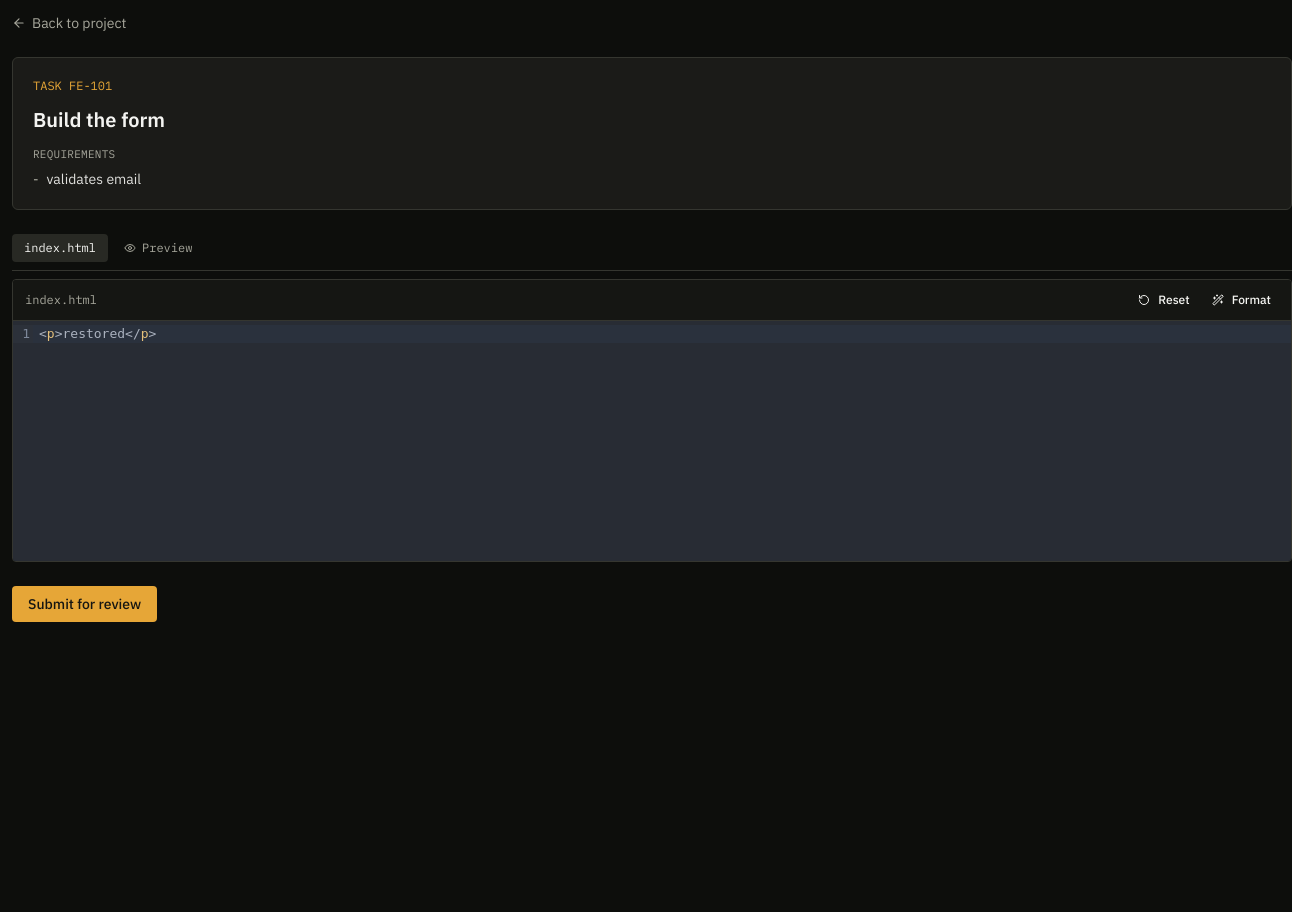
Test: ProjectTaskRunner › draft persistence › submits the restored content and drops the draft once the review succeeds
Click the button "Submit for review" at x=85, y=604, box [12,586,157,622]
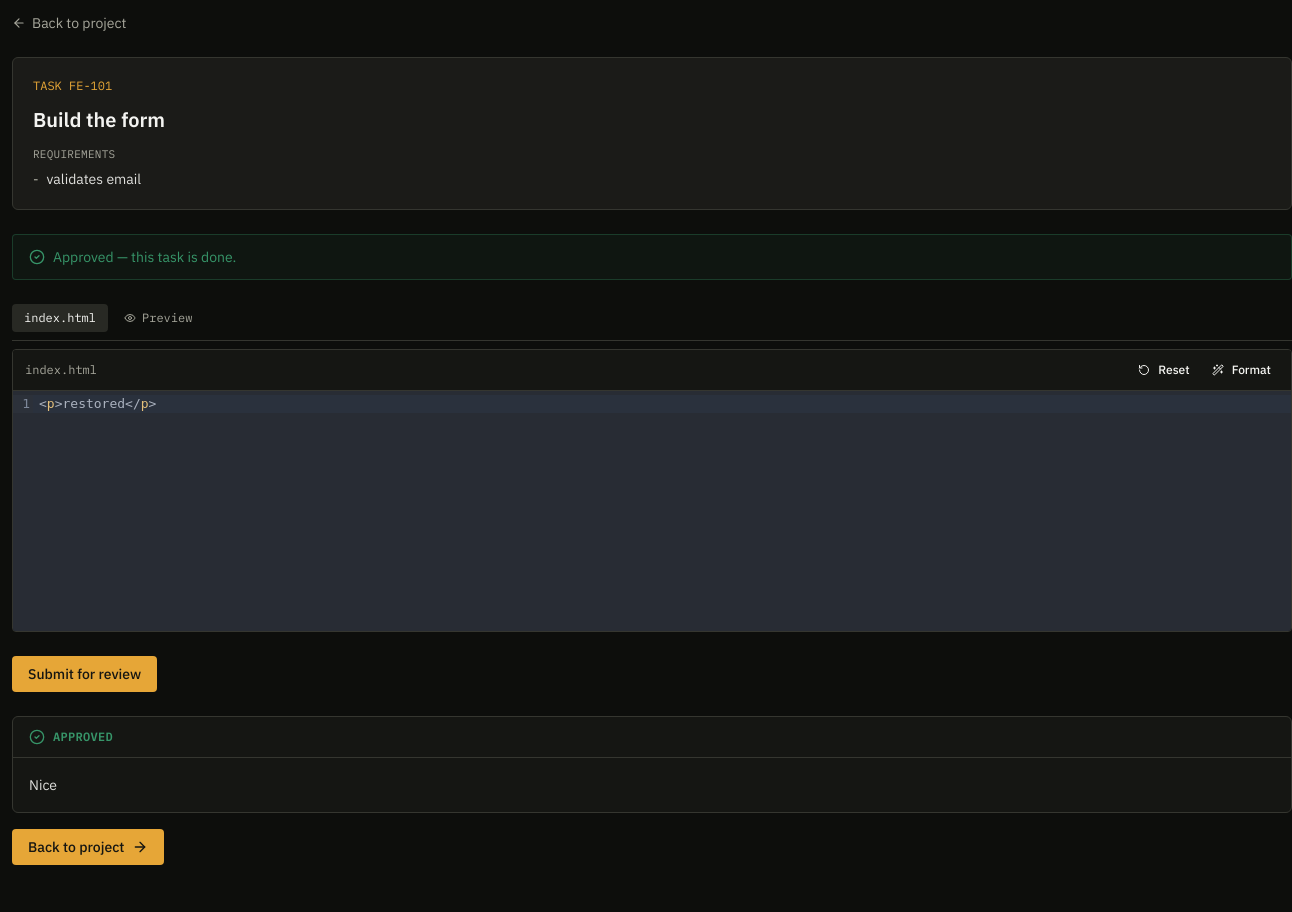
expect the text "Nice" is shown: met, box [29,776,57,794]
